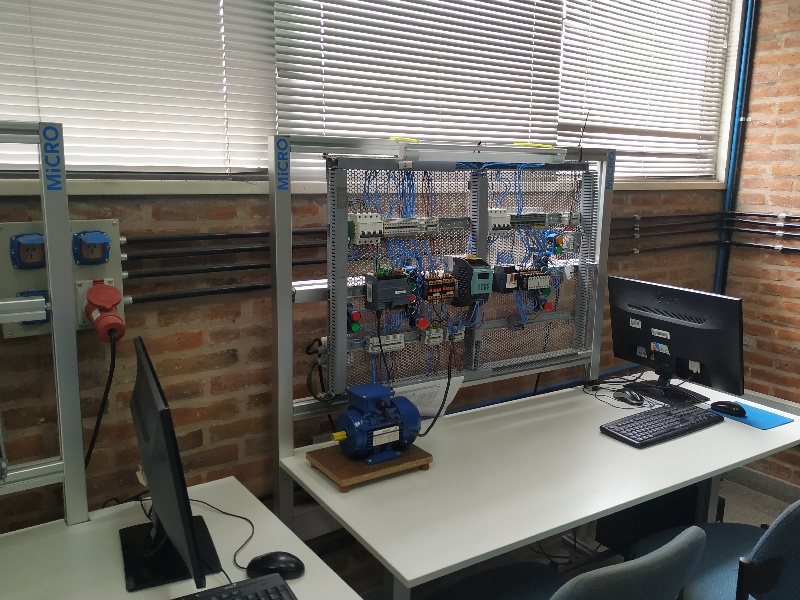Tablero 2: (338, 162, 601, 386)
